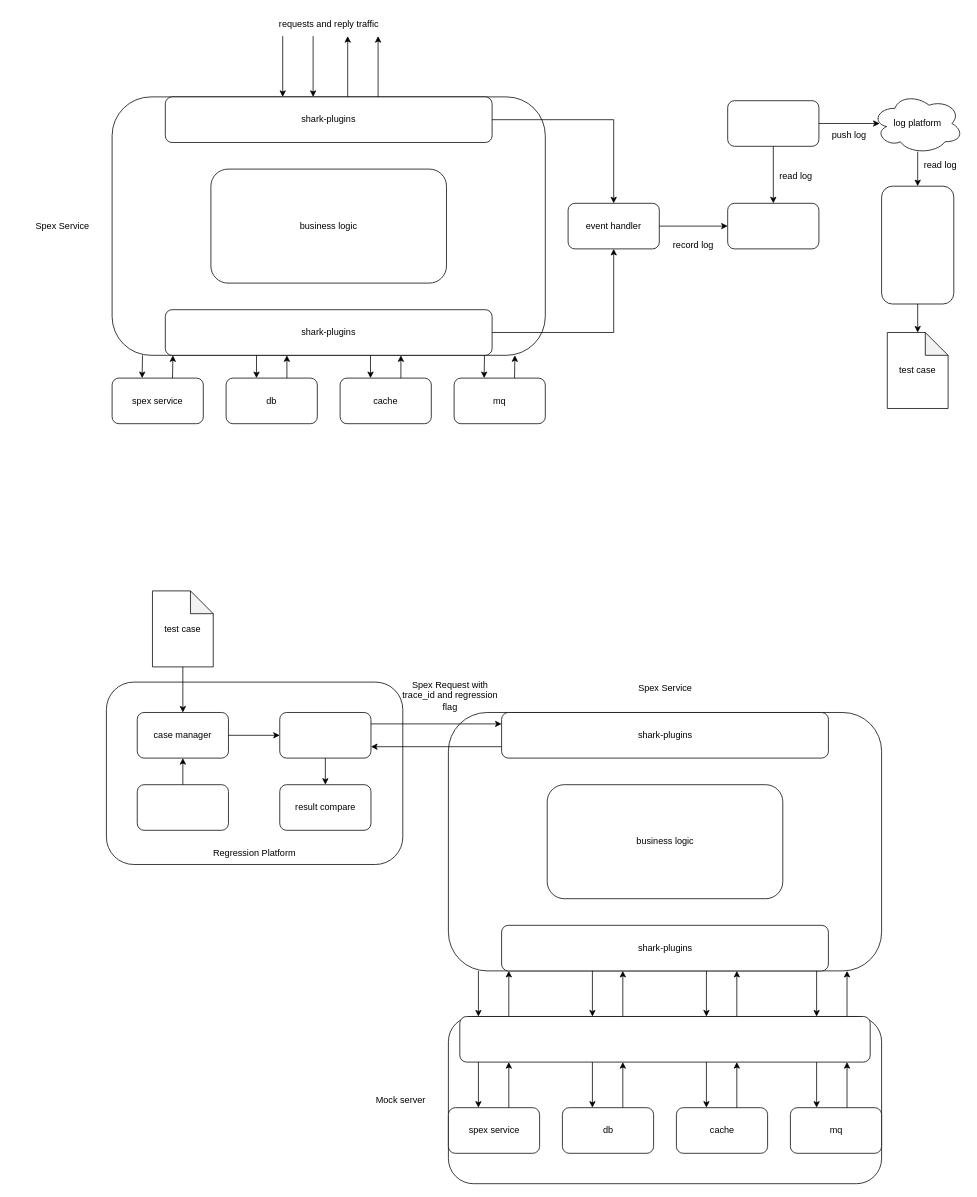
The diagram is 977 pixels wide and 1197 high, and some of its shapes have lost their labels. The shapes that lost their labels are listed below. From the top down, each one's box as (x1, y1, x2, y2) in pixels, then its label:
(727, 100, 819, 146): log agent
(727, 203, 819, 249): record traffic
(881, 185, 954, 304): handle log and generate test case
(279, 712, 371, 758): replay service
(136, 784, 228, 830): traffic manager
(459, 1016, 870, 1062): Mock Server Gateway
